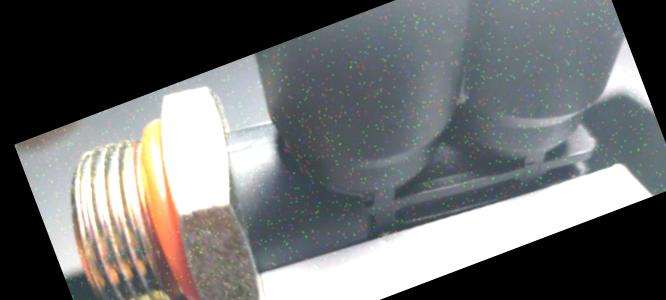joint line: (247, 134, 277, 154)
white mark: (225, 140, 248, 157)
